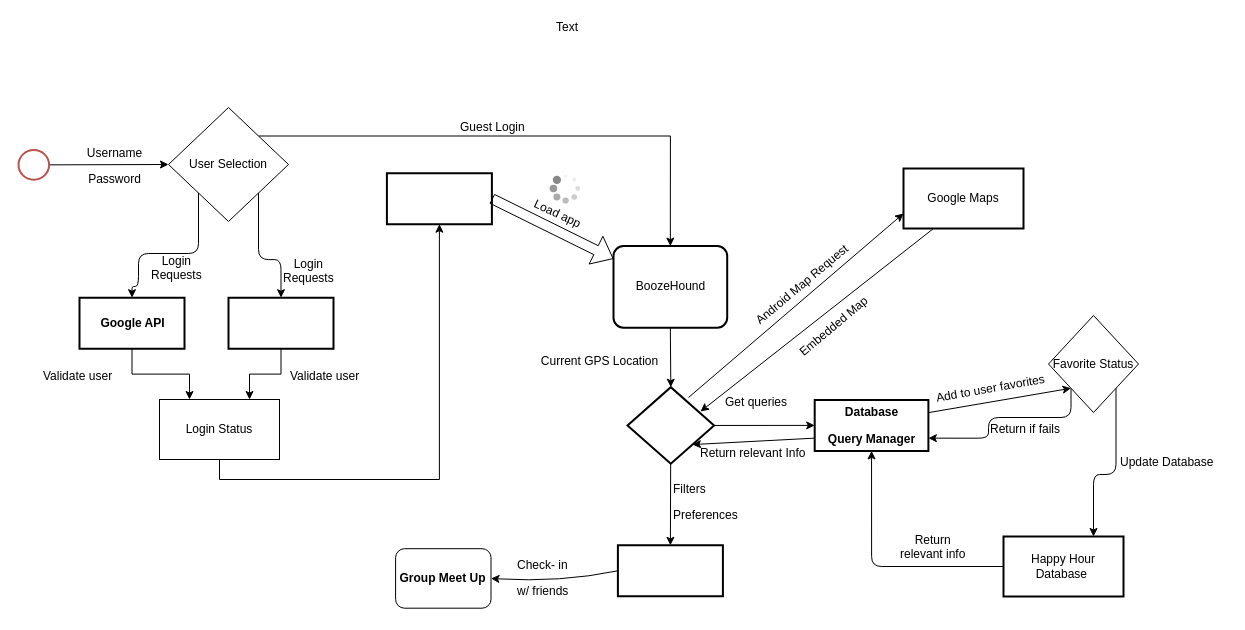
This 1245x630 diagram has some shape labels left out. The centre of each missing label's shape, as x and y in pixels:
"Available Happy Hours" belongs at [670,425].
"Client" belongs at [33,164].
"Facebook API" belongs at [280,322].
"Final Destination" belongs at [669,570].
"Verification" belongs at [438,198].
